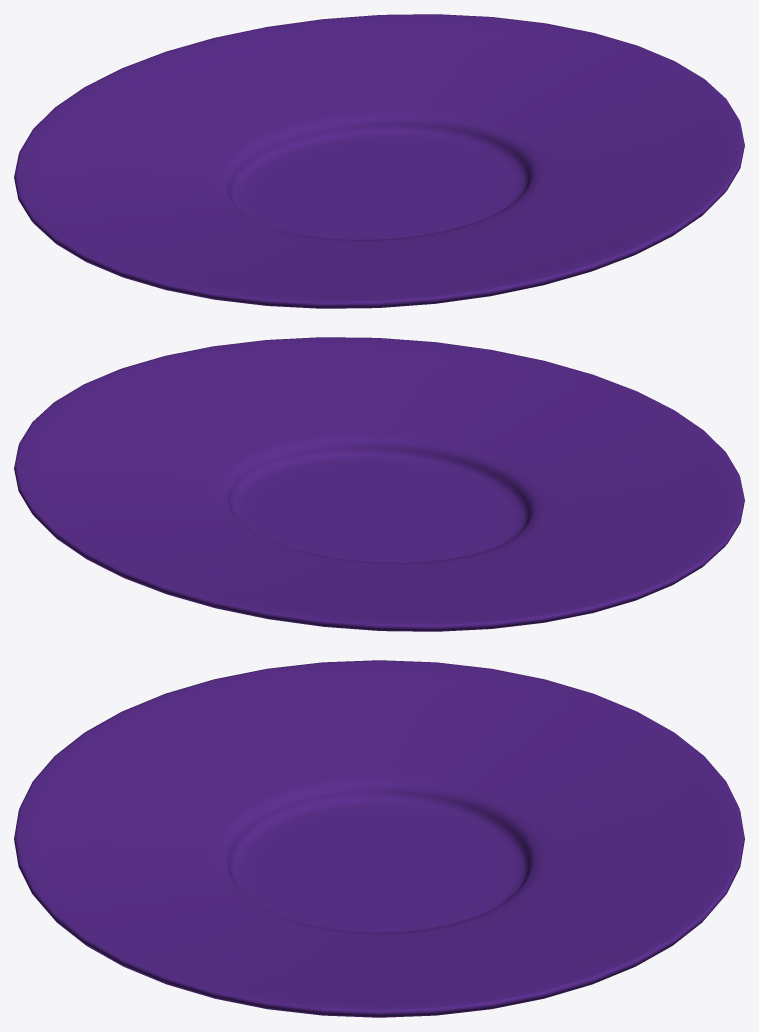
File: soucoupe.fbx
3 renders of one model, top to bottom at view 1: azimuth 30°, elevation 25°; view 2: azimuth 150°, elevation 25°; view 3: azimuth 270°, elevation 25°, orthographic. The views are drawn at different scales.
Visible parts, largest first — view 1: CupMaya:Saucer_Geo; view 2: CupMaya:Saucer_Geo; view 3: CupMaya:Saucer_Geo.
Boxes of the visible parts, left/top/right/bottom form: CupMaya:Saucer_Geo: left=14, top=14, right=744, bottom=308; CupMaya:Saucer_Geo: left=14, top=337, right=744, bottom=631; CupMaya:Saucer_Geo: left=14, top=660, right=744, bottom=1017.
Bounding box in the file's own units: 1.48 × 0.0819 × 1.3.
